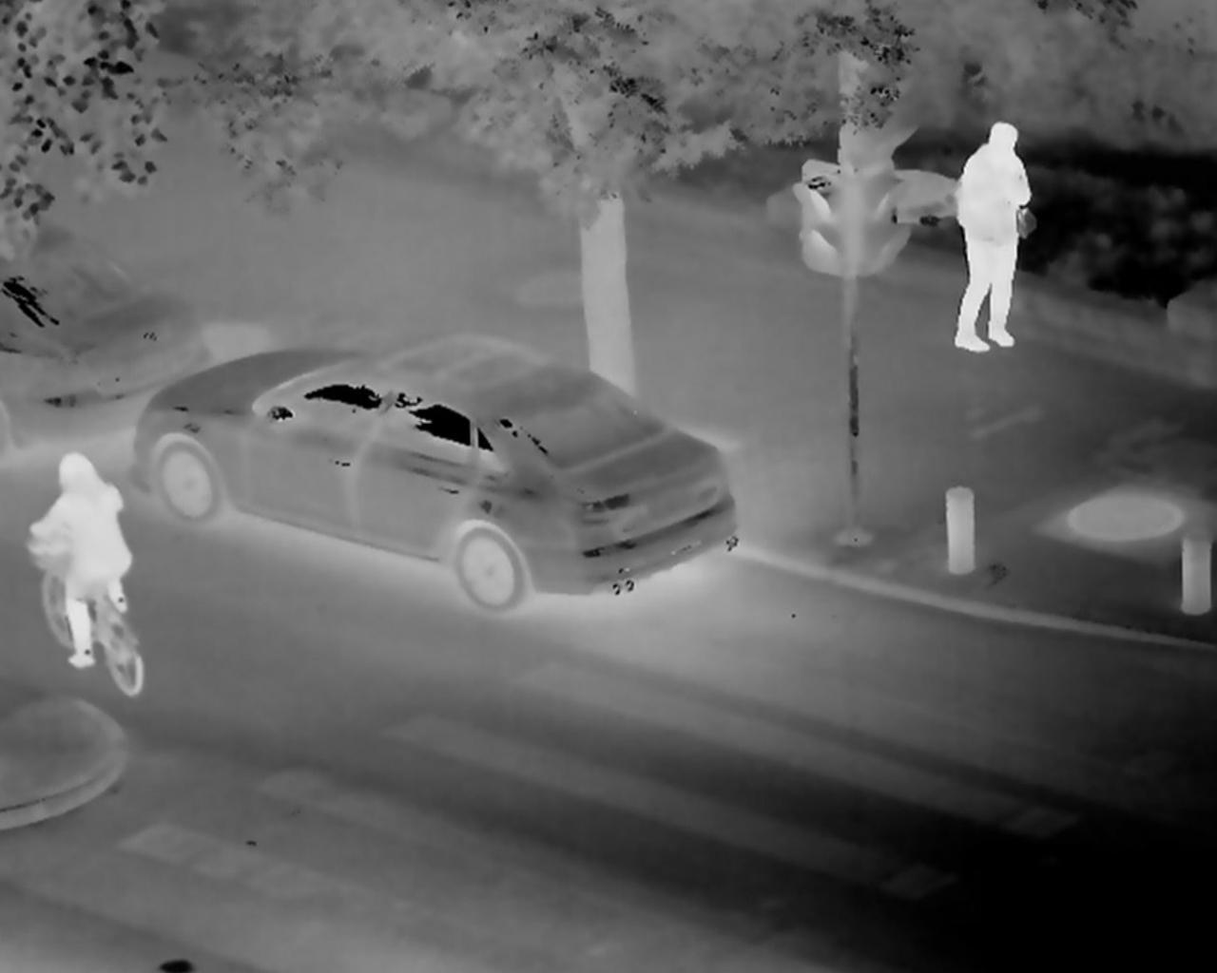person: (22, 452, 154, 679), (941, 114, 1039, 351)
